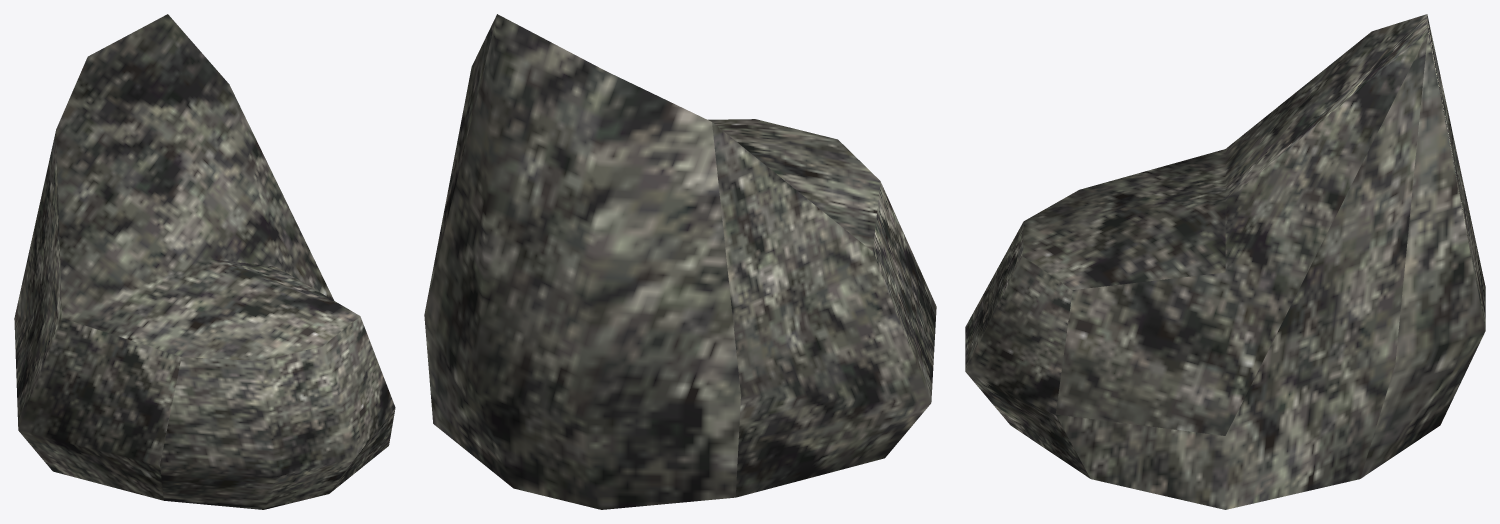
File: shoreline_large_1.glb
The picture shows the model from 3 angles, left to right: view 1: azimuth 30°, elevation 25°; view 2: azimuth 150°, elevation 25°; view 3: azimuth 270°, elevation 25°; orthographic projection. The views are drawn at different scales.
Visible parts, largest first — view 1: shoreline_large_1; view 2: shoreline_large_1; view 3: shoreline_large_1.
Part boxes in pixels (x1,y1,x2,y2): shoreline_large_1: (14, 14, 395, 509); shoreline_large_1: (424, 14, 936, 509); shoreline_large_1: (965, 14, 1485, 509).
Size of the model in its own units: 2.19 by 1.97 by 2.3.
1 material, 1 textured.
